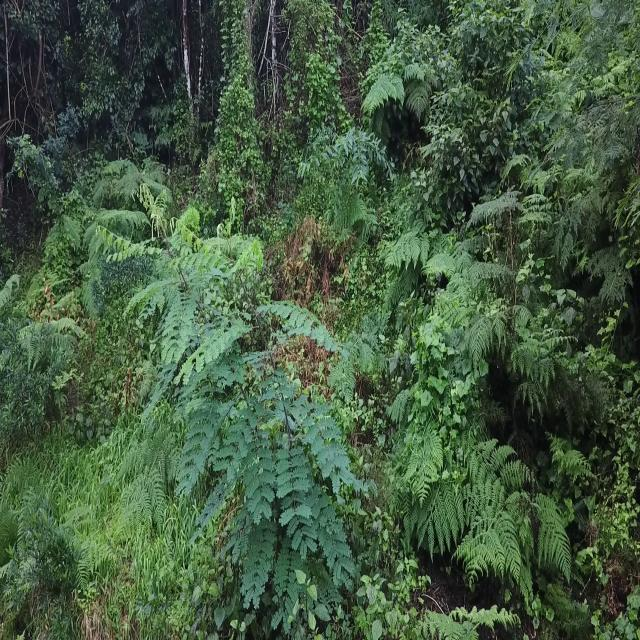Mysore-Thorn-Weed: (104, 164, 376, 622)
